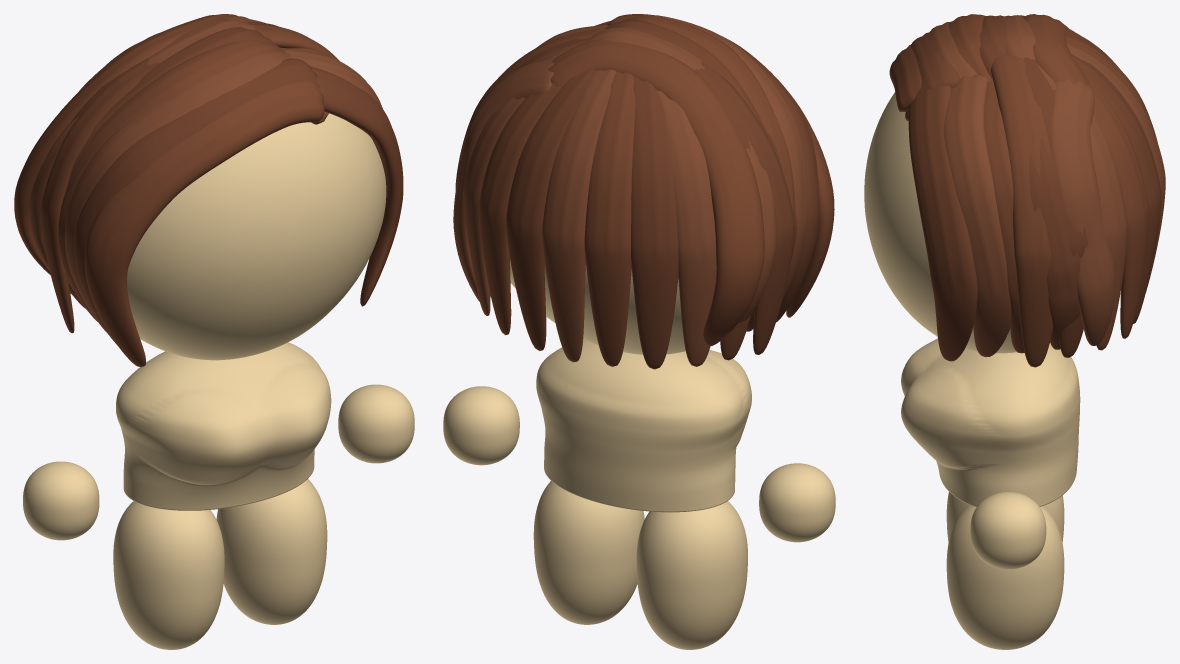
The model's file is Feminine-base.glb.
3 views of the same model, side by side, from view 1: azimuth 30°, elevation 25°; view 2: azimuth 150°, elevation 25°; view 3: azimuth 270°, elevation 25° (orthographic).
Visible parts, largest first — view 1: Skin / soft oval head, Skin / rounded torso, Hair / Bob / side sweep 0, Skin / leg blob -1, Skin / leg blob 1, Hair / Bob / side sweep 1, Hair / Bob / side sweep 2, Hair / Bob / side sweep 7, Hair / Bob / side sweep 3, Hair / Bob / side sweep 22, Hair / Bob / side sweep 6, Skin / orb hand 1 (+5 smaller); view 2: Skin / rounded torso, Hair / Bob / side sweep 6, Skin / leg blob -1, Skin / leg blob 1, Hair / Bob / side sweep 19, Hair / Bob / side sweep 18, Hair / Bob / side sweep 17, Hair / Bob / side sweep 16, Hair / Bob / side sweep 20, Hair / Bob / side sweep 15, Hair / Bob / side sweep 22, Skin / orb hand 1 (+13 smaller); view 3: Skin / rounded torso, Hair / Bob / side sweep 7, Skin / leg blob 1, Skin / soft oval head, Hair / Bob / side sweep 8, Hair / Bob / side sweep 12, Hair / Bob / side sweep 11, Hair / Bob / side sweep 15, Hair / Bob / side sweep 10, Skin / orb hand 1, Hair / Bob / side sweep 9, Hair / Bob / side sweep 14 (+12 smaller).
Part boxes in pixels (x1=…): Skin / soft oval head: x1=127, y1=113, x2=386, y2=360; Skin / rounded torso: x1=116, y1=342, x2=331, y2=510; Hair / Bob / side sweep 0: x1=84, y1=82, x2=328, y2=367; Skin / leg blob -1: x1=113, y1=501, x2=224, y2=649; Skin / leg blob 1: x1=216, y1=479, x2=327, y2=624; Hair / Bob / side sweep 1: x1=74, y1=58, x2=319, y2=345; Hair / Bob / side sweep 2: x1=64, y1=51, x2=291, y2=332; Hair / Bob / side sweep 7: x1=311, y1=67, x2=403, y2=306; Hair / Bob / side sweep 3: x1=58, y1=39, x2=282, y2=321; Hair / Bob / side sweep 22: x1=40, y1=58, x2=160, y2=333; Hair / Bob / side sweep 6: x1=14, y1=14, x2=254, y2=275; Skin / orb hand 1: x1=338, y1=384, x2=414, y2=463; Skin / rounded torso: x1=536, y1=339, x2=751, y2=512; Hair / Bob / side sweep 6: x1=548, y1=39, x2=764, y2=346; Skin / leg blob -1: x1=636, y1=501, x2=747, y2=649; Skin / leg blob 1: x1=533, y1=481, x2=644, y2=624; Hair / Bob / side sweep 19: x1=631, y1=77, x2=678, y2=369; Hair / Bob / side sweep 18: x1=584, y1=71, x2=635, y2=366; Hair / Bob / side sweep 17: x1=542, y1=69, x2=615, y2=362; Hair / Bob / side sweep 16: x1=506, y1=70, x2=596, y2=350; Hair / Bob / side sweep 20: x1=657, y1=90, x2=716, y2=366; Hair / Bob / side sweep 15: x1=479, y1=82, x2=566, y2=335; Hair / Bob / side sweep 22: x1=694, y1=61, x2=794, y2=354; Skin / orb hand 1: x1=443, y1=386, x2=519, y2=465; Skin / rounded torso: x1=901, y1=338, x2=1080, y2=507; Hair / Bob / side sweep 7: x1=908, y1=85, x2=977, y2=361; Skin / leg blob 1: x1=946, y1=505, x2=1064, y2=649; Skin / soft oval head: x1=864, y1=92, x2=1016, y2=353; Hair / Bob / side sweep 8: x1=943, y1=74, x2=1011, y2=357; Hair / Bob / side sweep 12: x1=991, y1=53, x2=1055, y2=367; Hair / Bob / side sweep 11: x1=1050, y1=79, x2=1114, y2=345; Hair / Bob / side sweep 15: x1=1085, y1=75, x2=1148, y2=338; Hair / Bob / side sweep 10: x1=1029, y1=137, x2=1080, y2=349; Skin / orb hand 1: x1=970, y1=492, x2=1046, y2=569; Hair / Bob / side sweep 9: x1=984, y1=78, x2=1024, y2=353; Hair / Bob / side sweep 14: x1=1037, y1=64, x2=1127, y2=350.
Size of the model in its own units: 1.23 by 1.86 by 0.8578.
